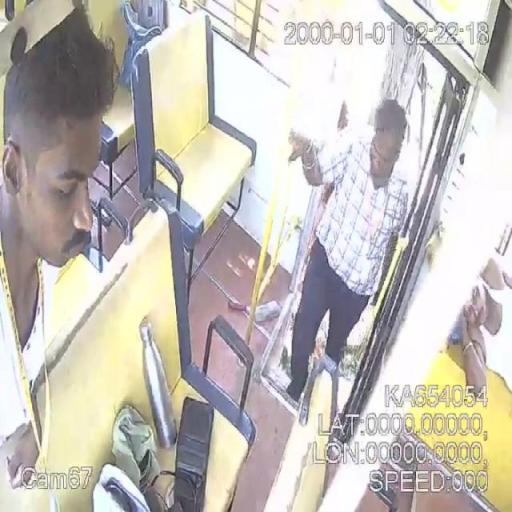persona: (1, 5, 120, 510), (282, 96, 410, 423)
